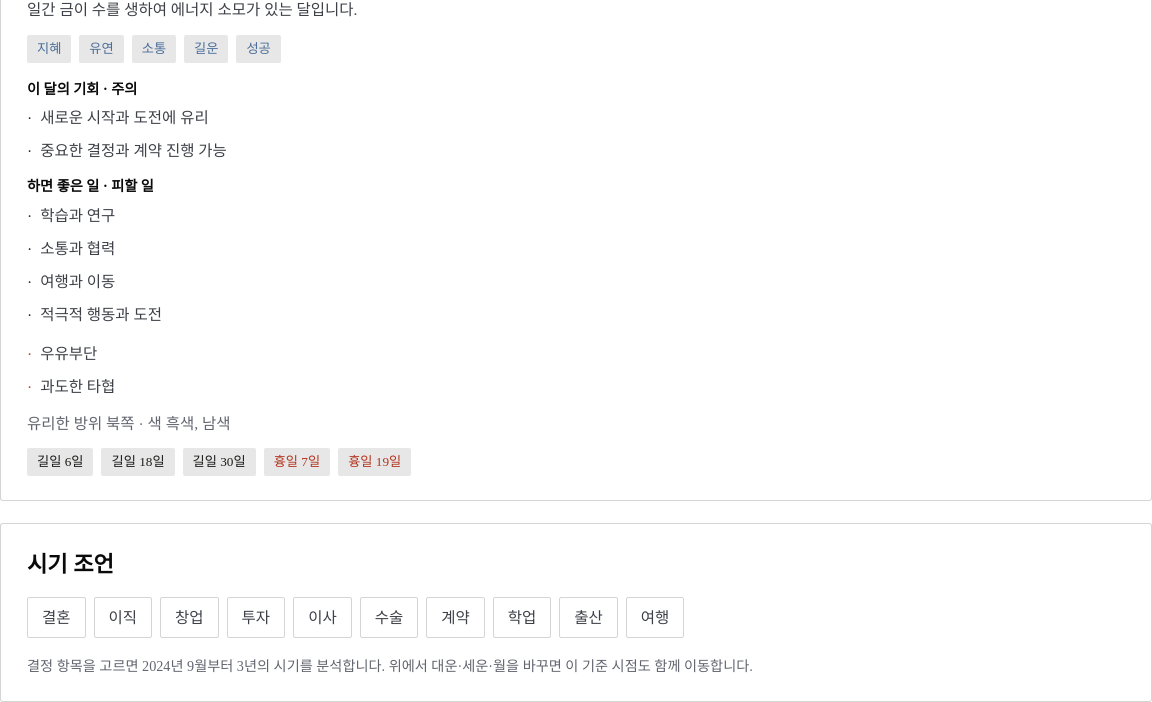
FlowTab — 대운→세운 캐스케이드 › 결정 항목을 고르면 월별 그래프 없이 연도별 큰 흐름을 유지한다
The width and height of the screenshot is (1152, 702).
(page scrolled)
Click the button "계약": [455, 617] box [426,597,485,638]
(page scrolled)
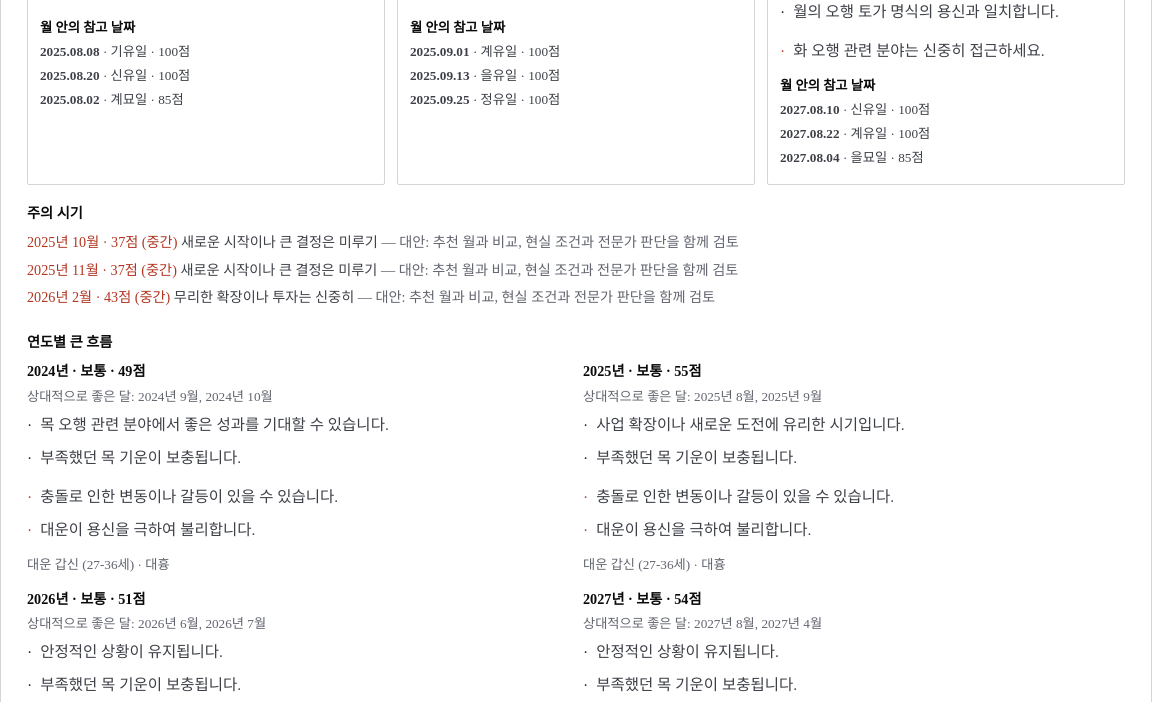
Expected: the text "연도별 큰 흐름" is shown, [27,334,112,350]
